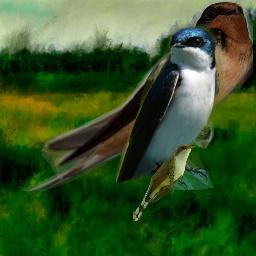Cuckoo: (133, 144, 196, 221)
Swallow: (20, 1, 253, 191), (116, 24, 223, 190)
